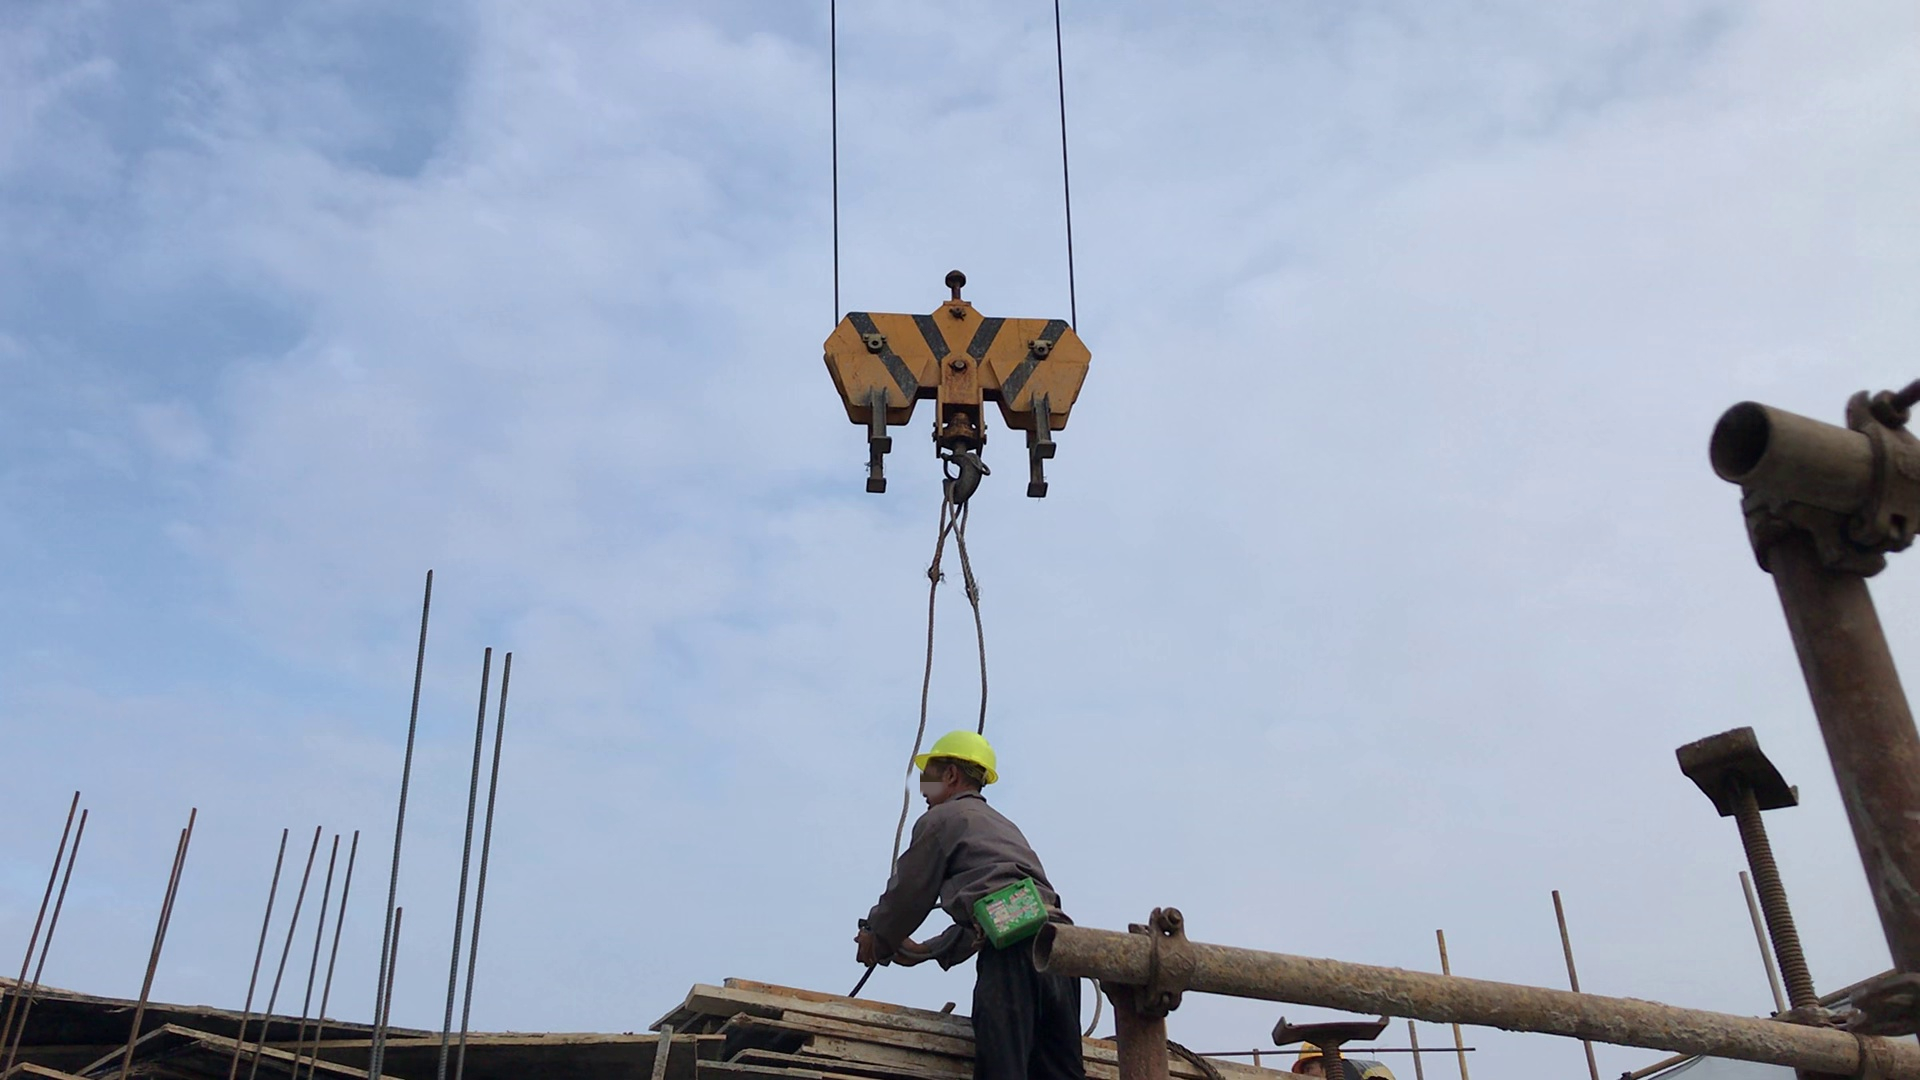board: (630, 972, 966, 1080)
helmet: (914, 737, 1001, 779)
hook: (818, 267, 1095, 509)
person: (856, 735, 1089, 1080)
